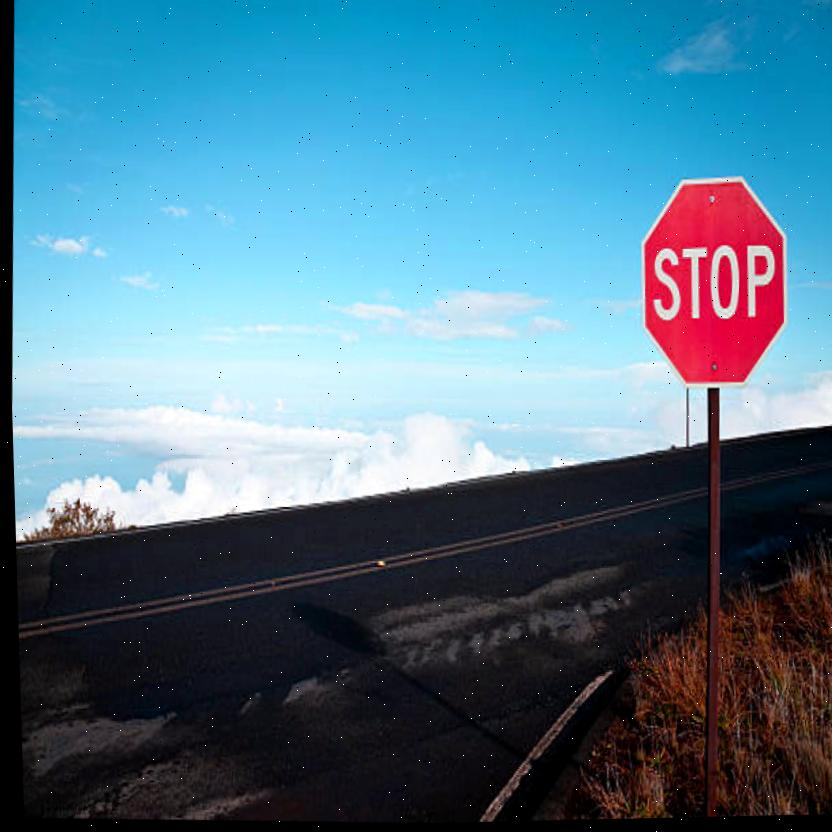Pole: (688, 391, 728, 820)
Sign: (632, 176, 790, 396)
